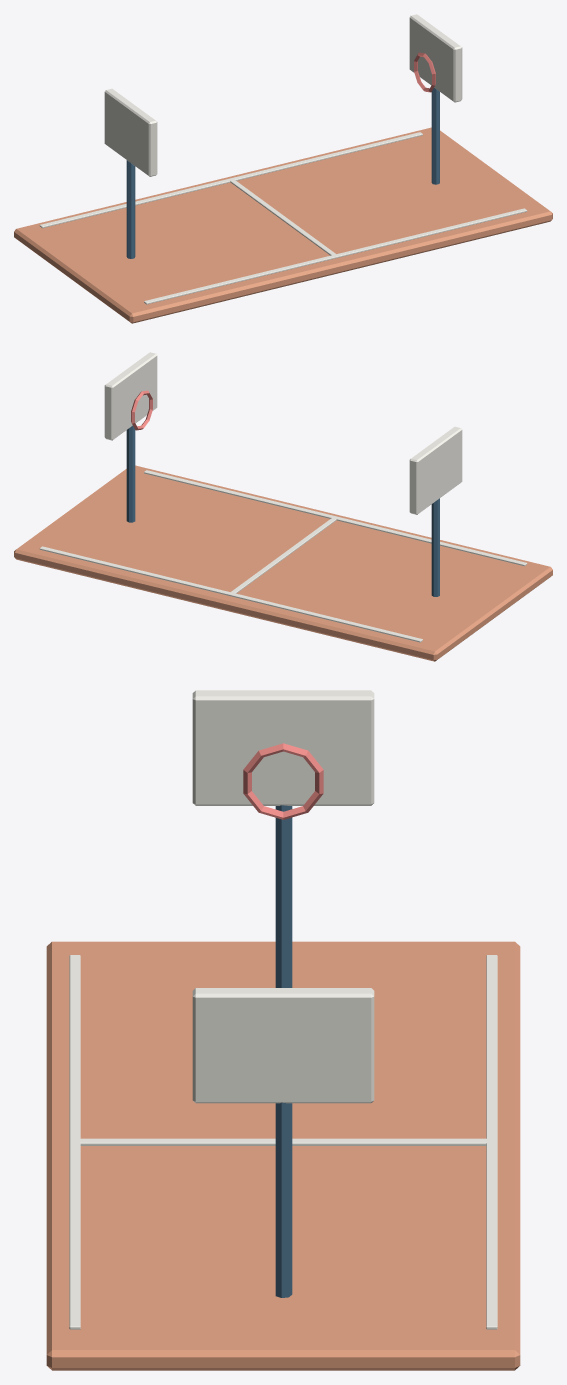
The model's file is SPORT_BASKET_2x1_001.glb.
3 views of the same model, one above another, from view 1: azimuth 30°, elevation 25°; view 2: azimuth 150°, elevation 25°; view 3: azimuth 270°, elevation 25° (orthographic). The views are drawn at different scales.
Parts seen in each view (by area): view 1: SPORT_BASKET_2x1_001_Visual; view 2: SPORT_BASKET_2x1_001_Visual; view 3: SPORT_BASKET_2x1_001_Visual.
Part boxes in pixels (x1,y1,x2,y2): SPORT_BASKET_2x1_001_Visual: [14, 14, 552, 323]; SPORT_BASKET_2x1_001_Visual: [14, 352, 552, 661]; SPORT_BASKET_2x1_001_Visual: [46, 690, 520, 1370].
Size of what is drawn, in the model's own units: 3.88 by 1.42 by 1.88.
